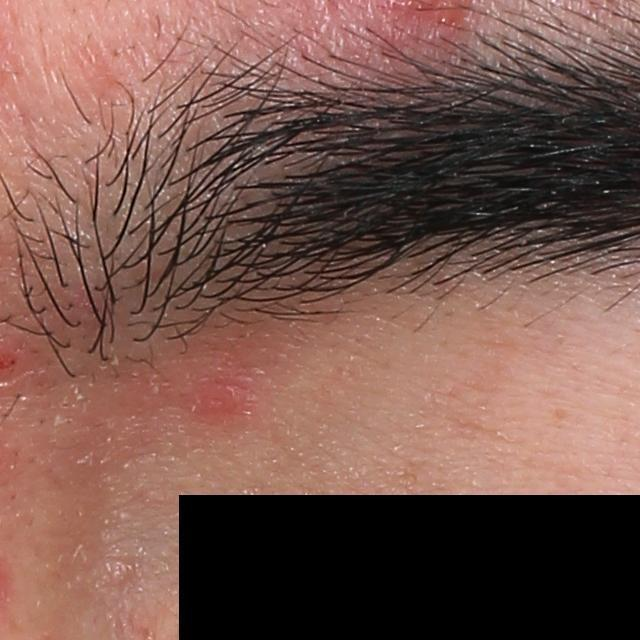papule: (193, 377, 245, 423)
